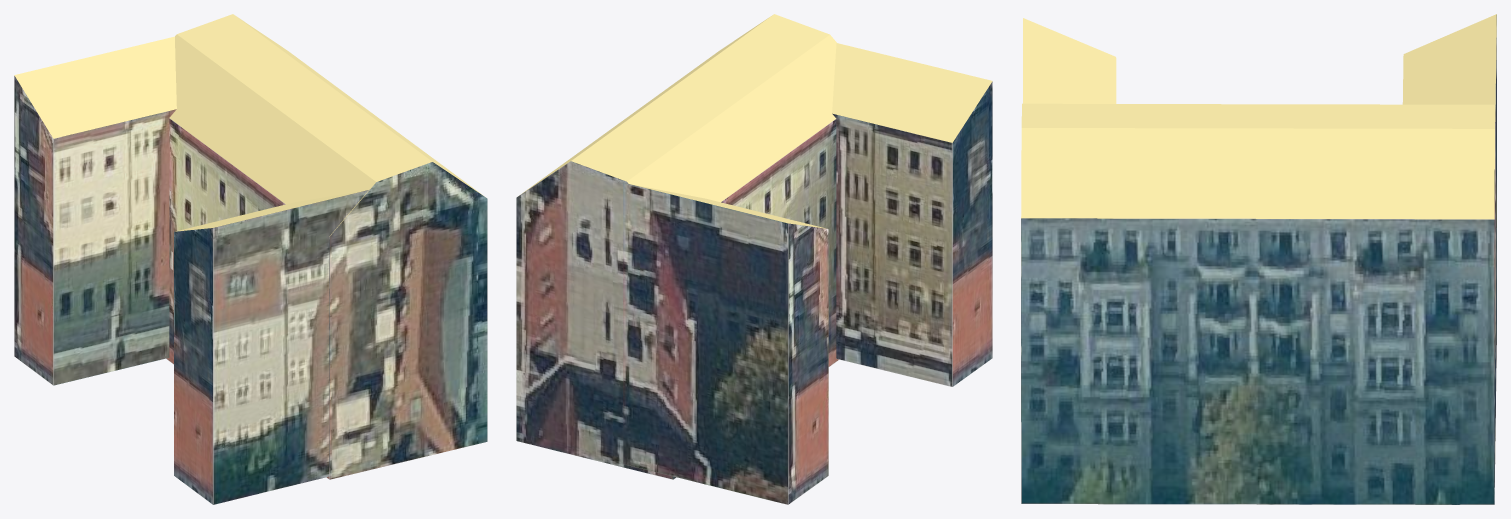
3 views of the same model, side by side, from view 1: azimuth 30°, elevation 25°; view 2: azimuth 150°, elevation 25°; view 3: azimuth 270°, elevation 25° (orthographic). The views are drawn at different scales.
Size of the model in its own units: 22.81 by 23.19 by 29.02.
Materials: 3 (1 with a texture image).
